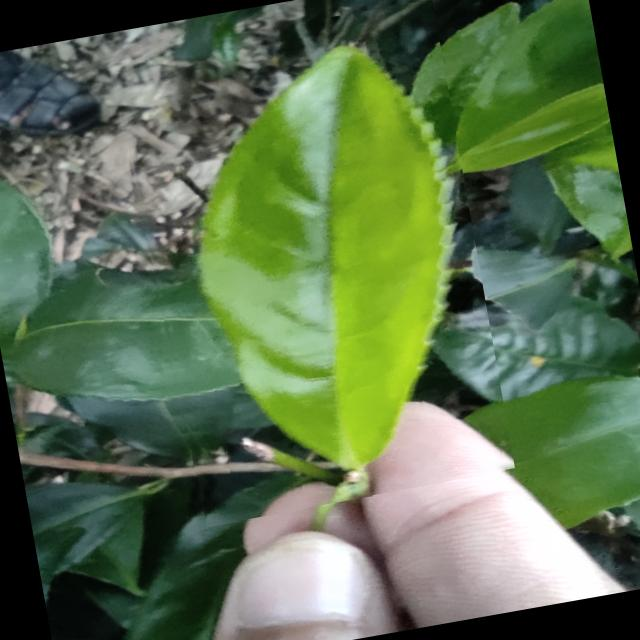Category C 4-7 days: (108, 0, 515, 529)
